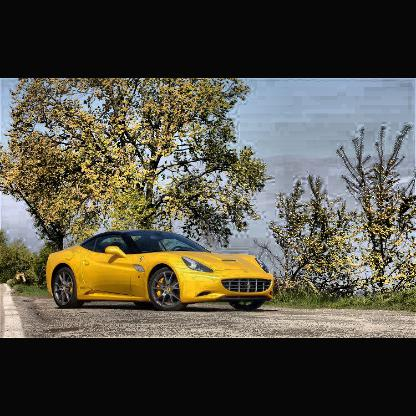Ferrari California Convertible 2012: (48, 229, 274, 313)
